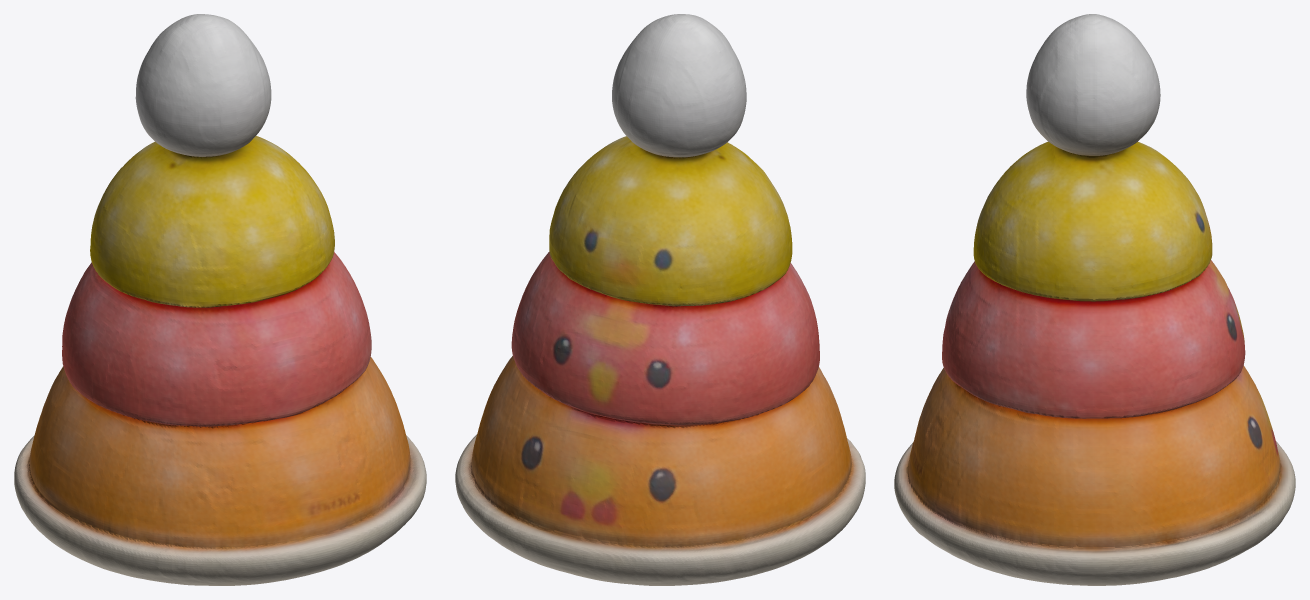
The picture shows the model from 3 angles, left to right: view 1: azimuth 30°, elevation 25°; view 2: azimuth 150°, elevation 25°; view 3: azimuth 270°, elevation 25°; orthographic projection. The views are drawn at different scales.
Visible parts, largest first — view 1: world; view 2: world; view 3: world.
Part boxes in pixels (x1,y1,x2,y2): world: [14, 14, 426, 585]; world: [455, 14, 865, 585]; world: [894, 14, 1295, 585].
Bounding box in the file's own units: 1.3 × 1.8 × 1.31.
